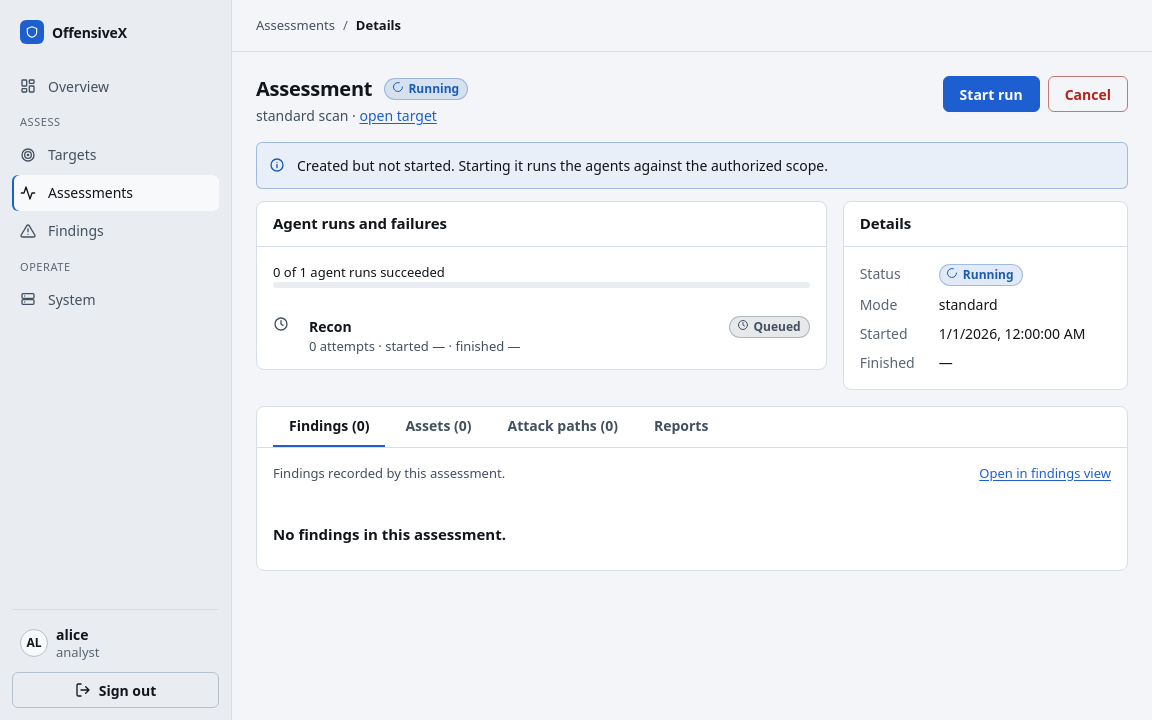
it: assessments › shows the server's refusal when a run cannot start
Click the button "Start run".
click(991, 94)  # box [943,76,1040,112]
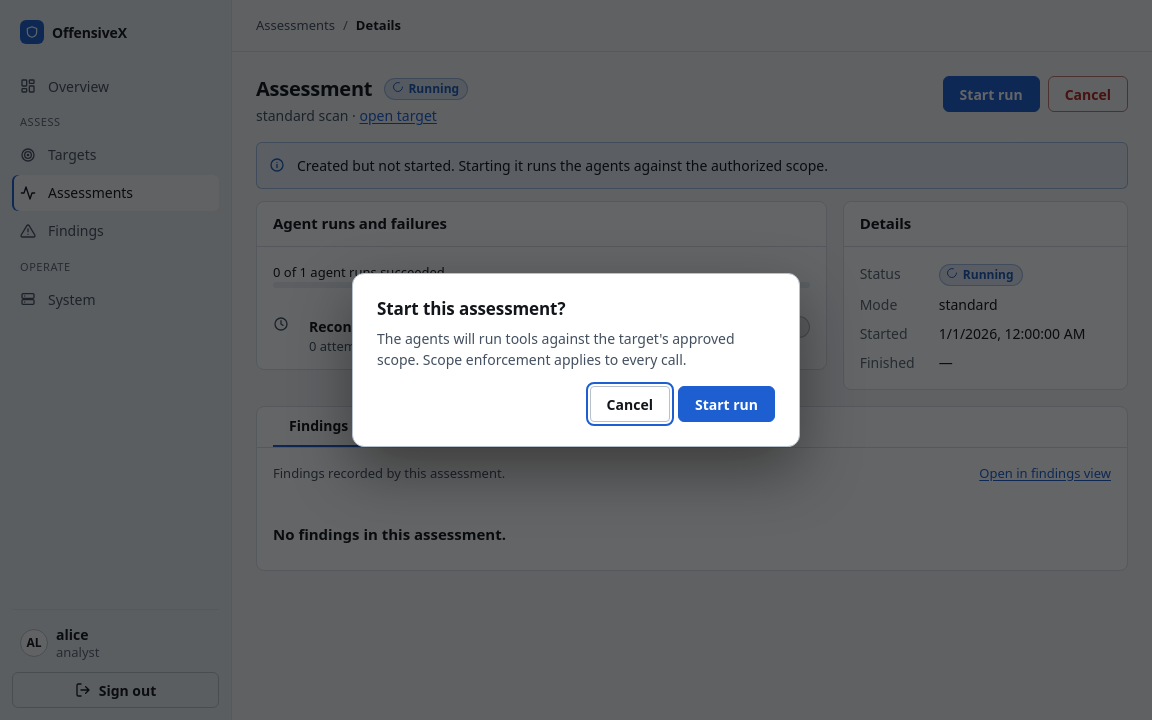
Click the button "Start run".
click(726, 404)  # box [678,386,775,422]
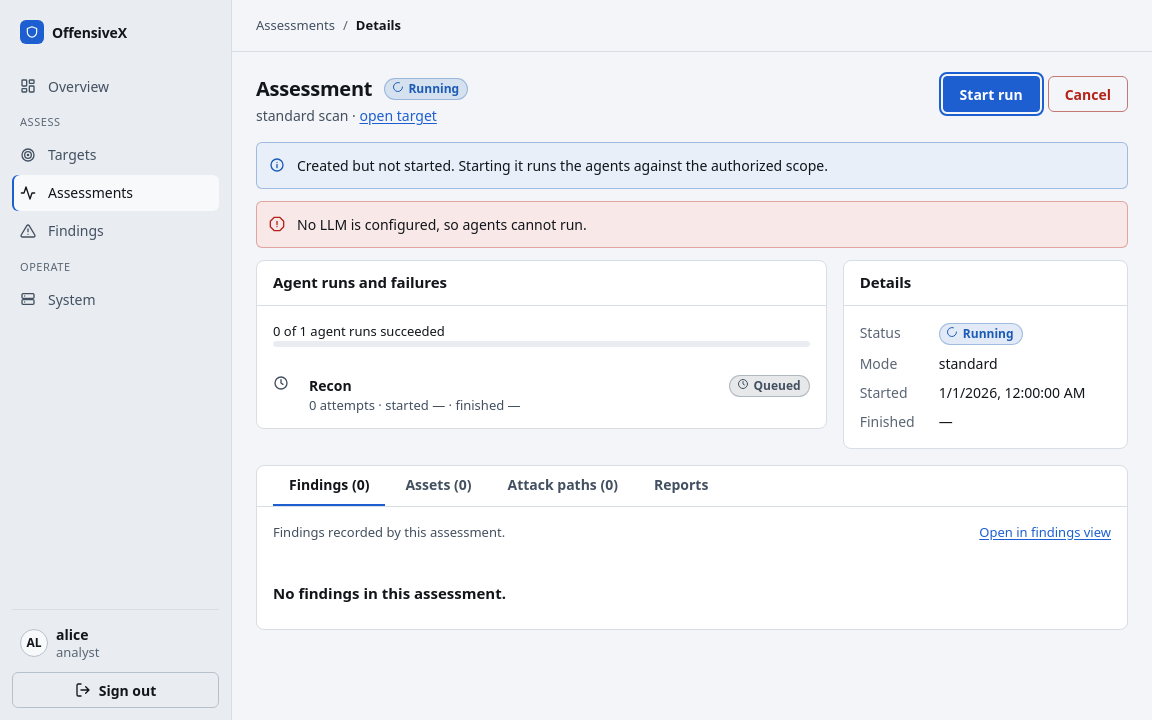
Expected: the text "No LLM is configured, so agents cannot run." is shown, [297,215,587,234]
Expected: the dialog is gone
